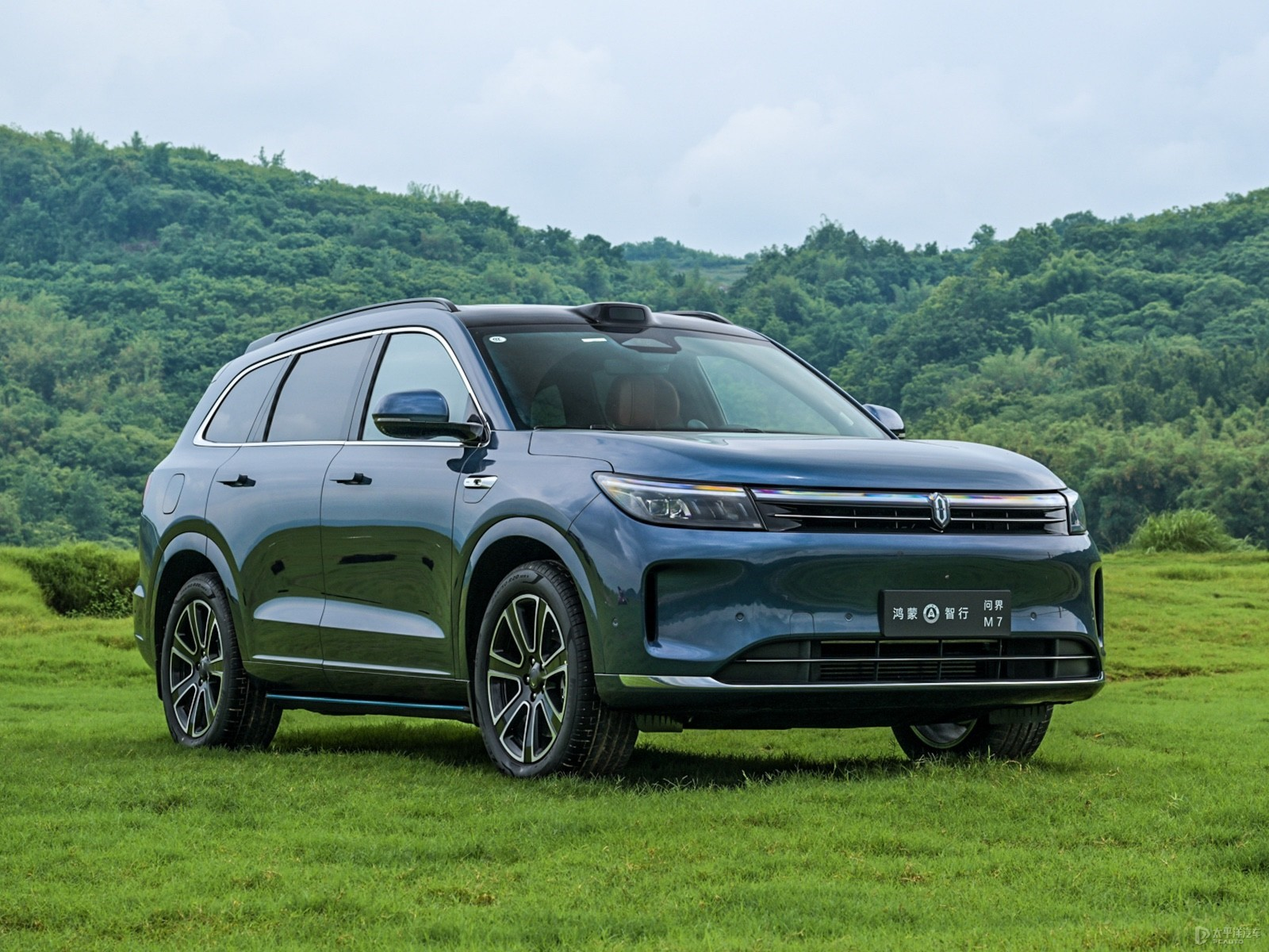AITO: (934, 497, 947, 523)
